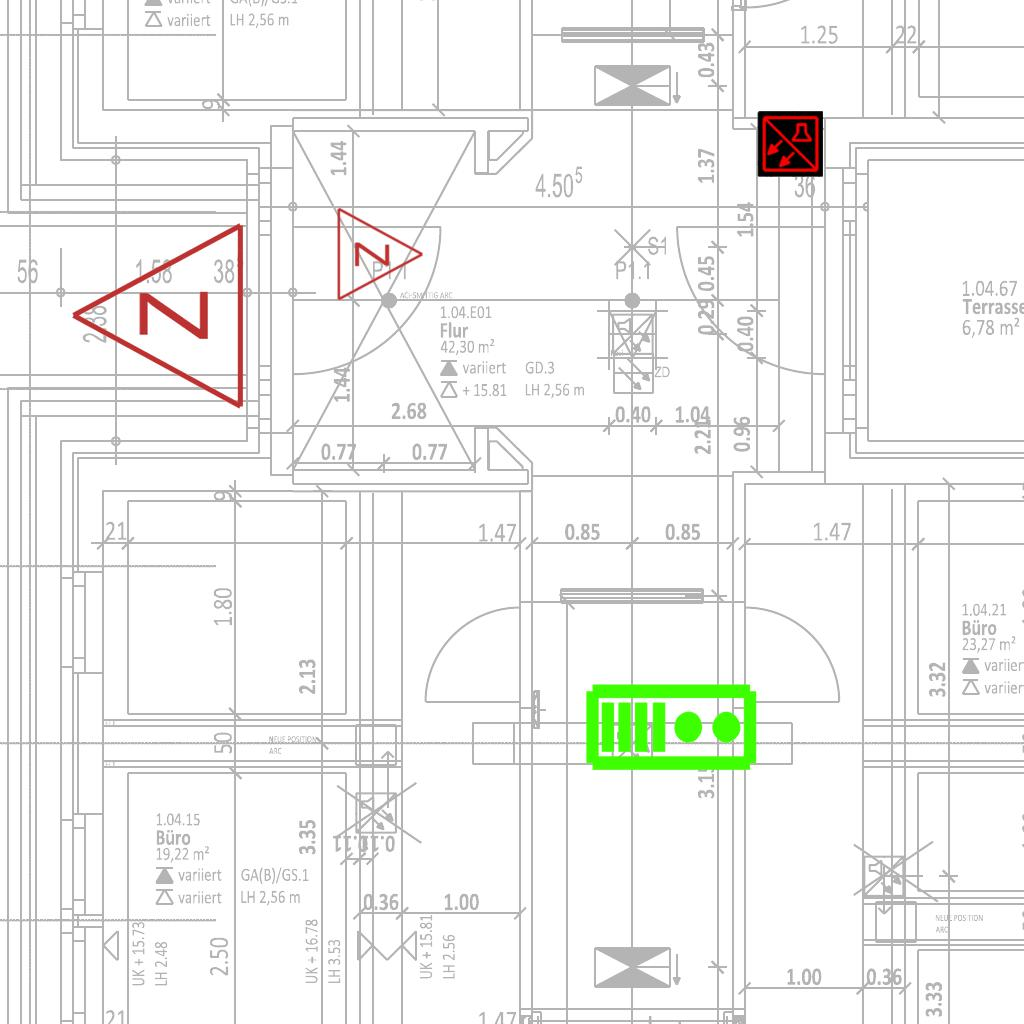Gegensprechanlage_mit_Video: (584, 678, 760, 773)
OKW_Multisensormelder_(Kombination_optischer_Rauch-Kahlenmonoxid_Waerme-Melder): (757, 111, 823, 177)
Zimmersignalleuchte: (58, 220, 258, 416), (330, 204, 430, 302)
